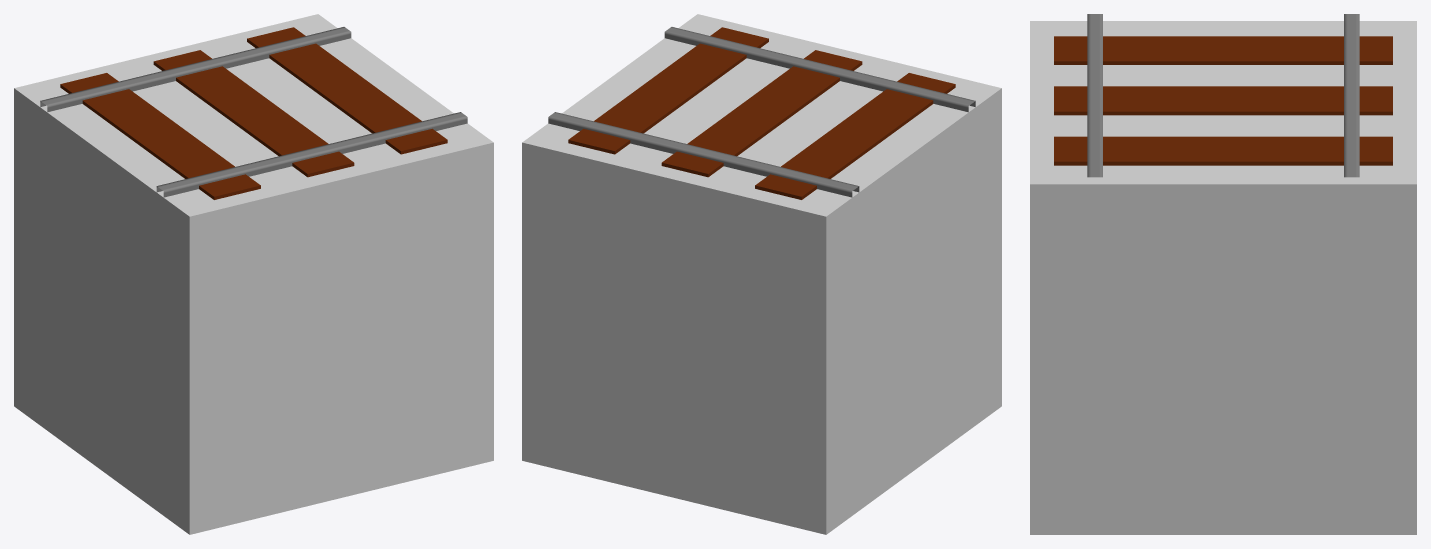
The model's file is Rail_Straight.fbx.
3 renders of one model, left to right at view 1: azimuth 30°, elevation 25°; view 2: azimuth 150°, elevation 25°; view 3: azimuth 270°, elevation 25°, orthographic. The views are drawn at different scales.
Parts seen in each view (by area): view 1: Cube, Planks, Rails; view 2: Cube, Planks, Rails; view 3: Cube, Planks, Rails.
Part boxes in pixels (x1,y1,x2,y2): Cube: (14, 14, 493, 534); Planks: (60, 27, 447, 199); Rails: (40, 27, 467, 197); Cube: (522, 14, 1001, 534); Planks: (568, 27, 955, 199); Rails: (548, 27, 975, 197); Cube: (1030, 21, 1416, 534); Planks: (1054, 36, 1392, 165); Rails: (1087, 14, 1359, 177).
Size of the model in its own units: 50 by 51 by 50.
